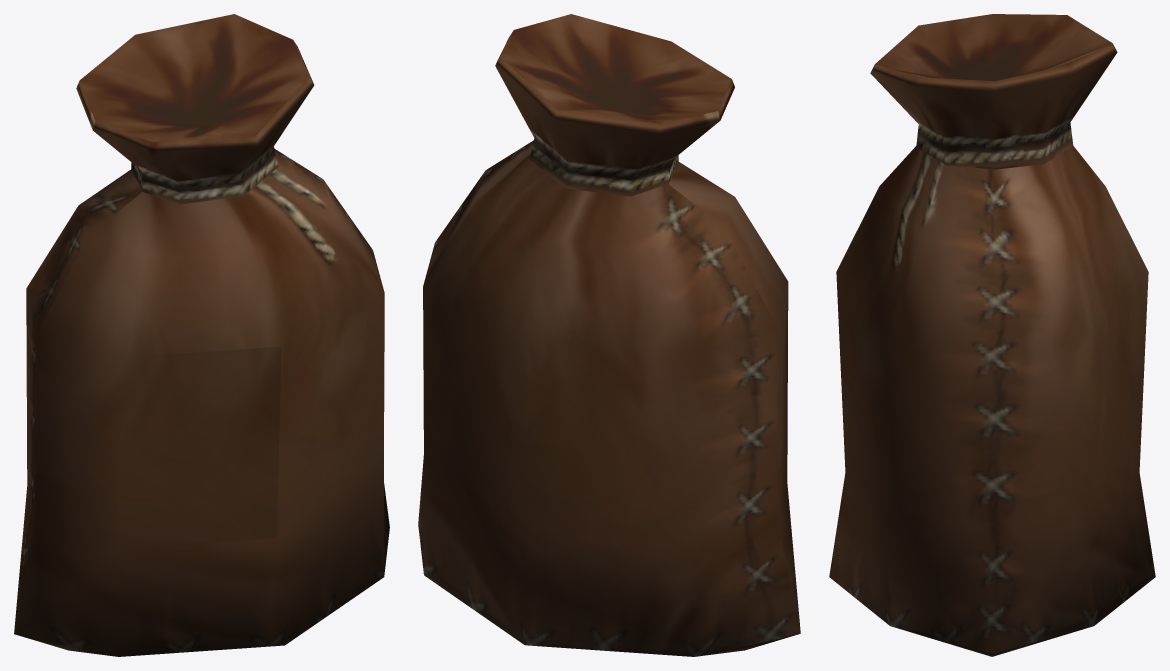
File: Prop_Cargo1.fbx
The picture shows the model from 3 angles, left to right: view 1: azimuth 30°, elevation 25°; view 2: azimuth 150°, elevation 25°; view 3: azimuth 270°, elevation 25°; orthographic projection. The views are drawn at different scales.
Parts seen in each view (by area): view 1: polySurface565; view 2: polySurface565; view 3: polySurface565.
Part boxes in pixels (box(x1,y1,x2,y2)): polySurface565: box(14, 14, 389, 656); polySurface565: box(418, 14, 800, 656); polySurface565: box(829, 14, 1155, 656).
Size of the model in its own units: 0.8251 by 1.2 by 0.6034.
Materials: 1 (1 with a texture image).
